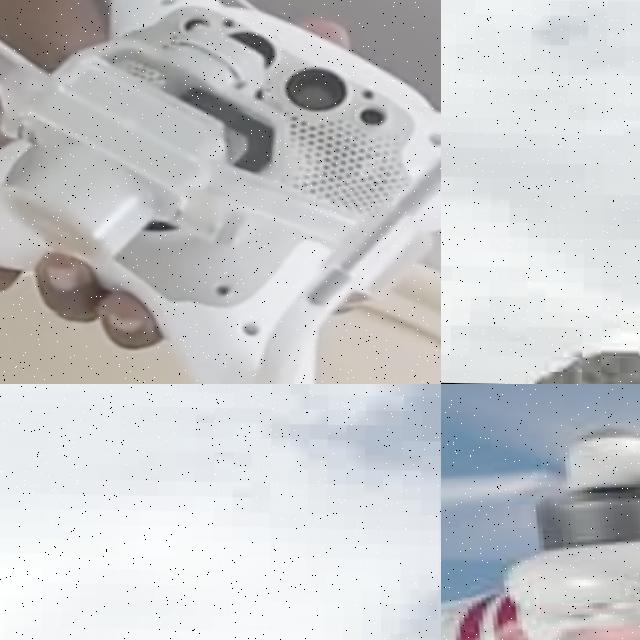drone: (0, 0, 441, 384), (441, 384, 640, 640)
